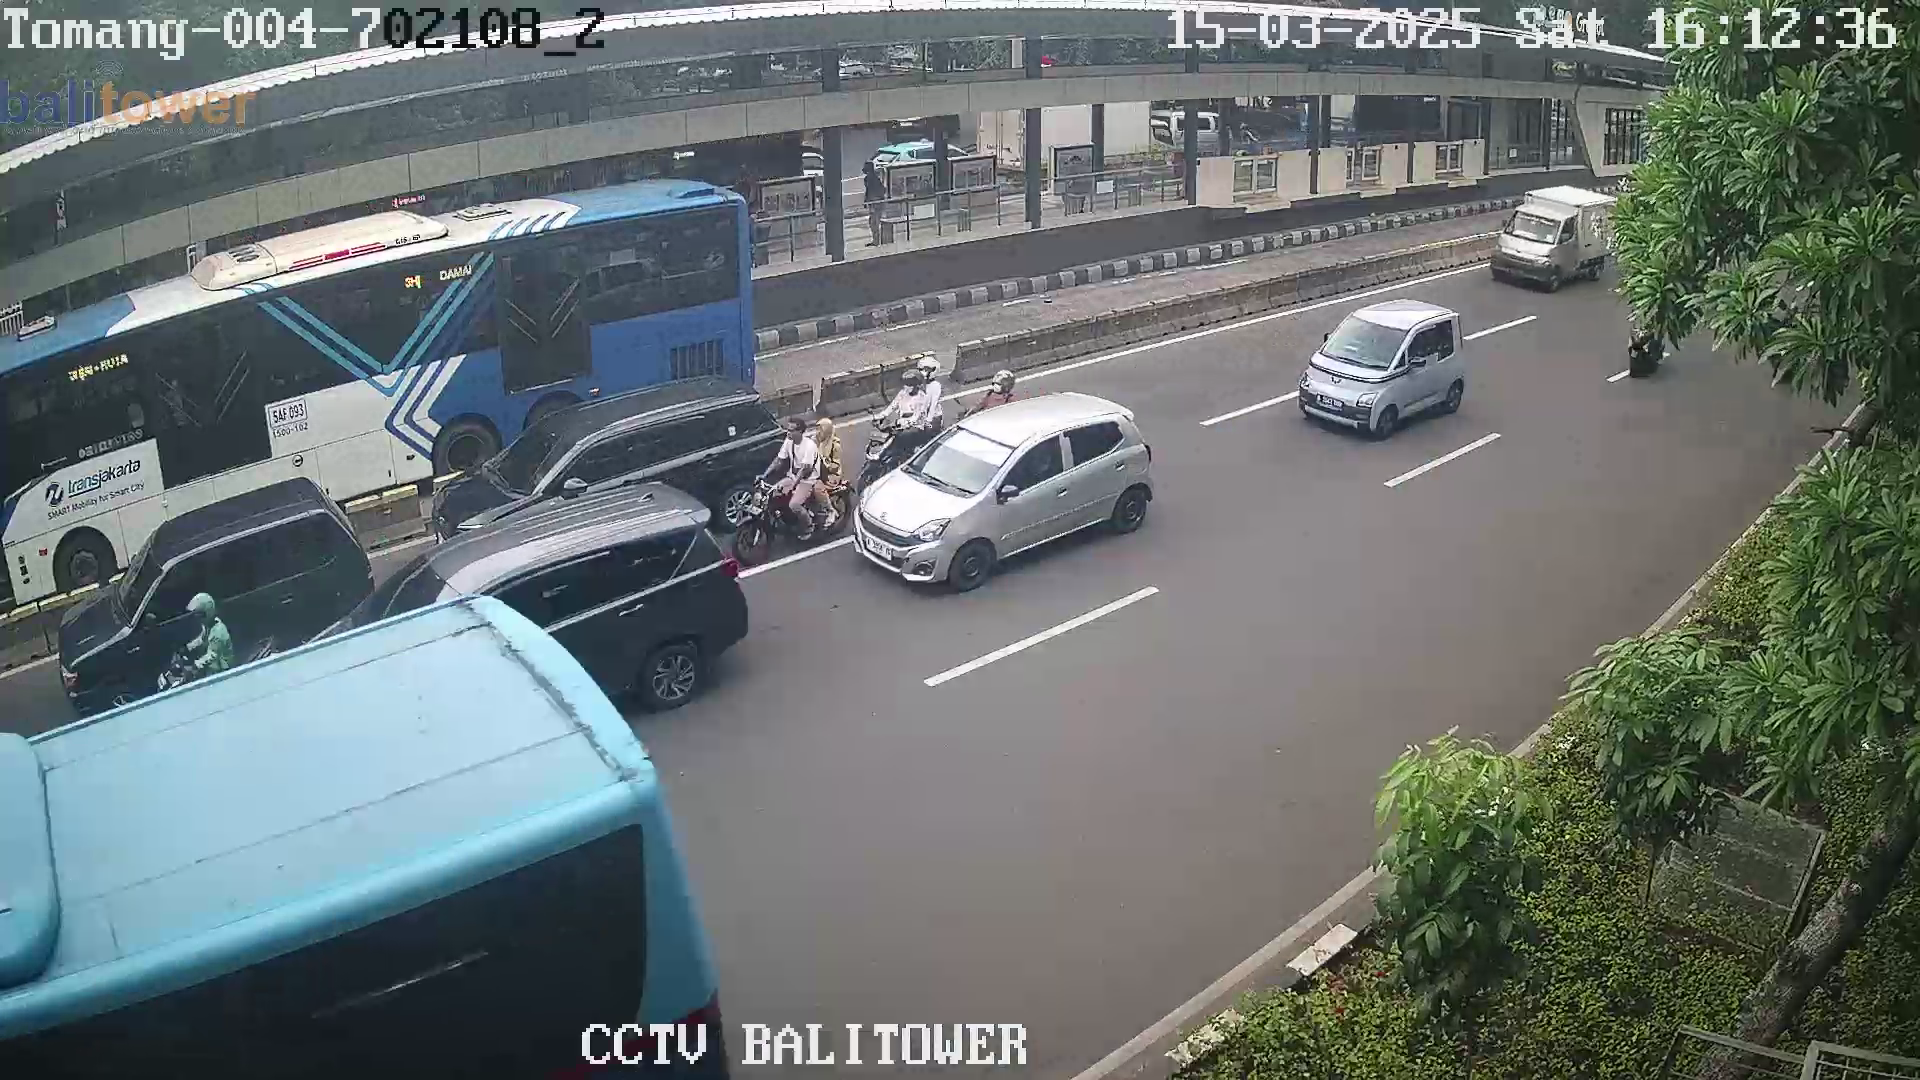half-face helmet: (174, 584, 225, 635), (898, 361, 931, 396), (990, 371, 1021, 396)
no helmet: (814, 412, 845, 453), (782, 412, 810, 447)
